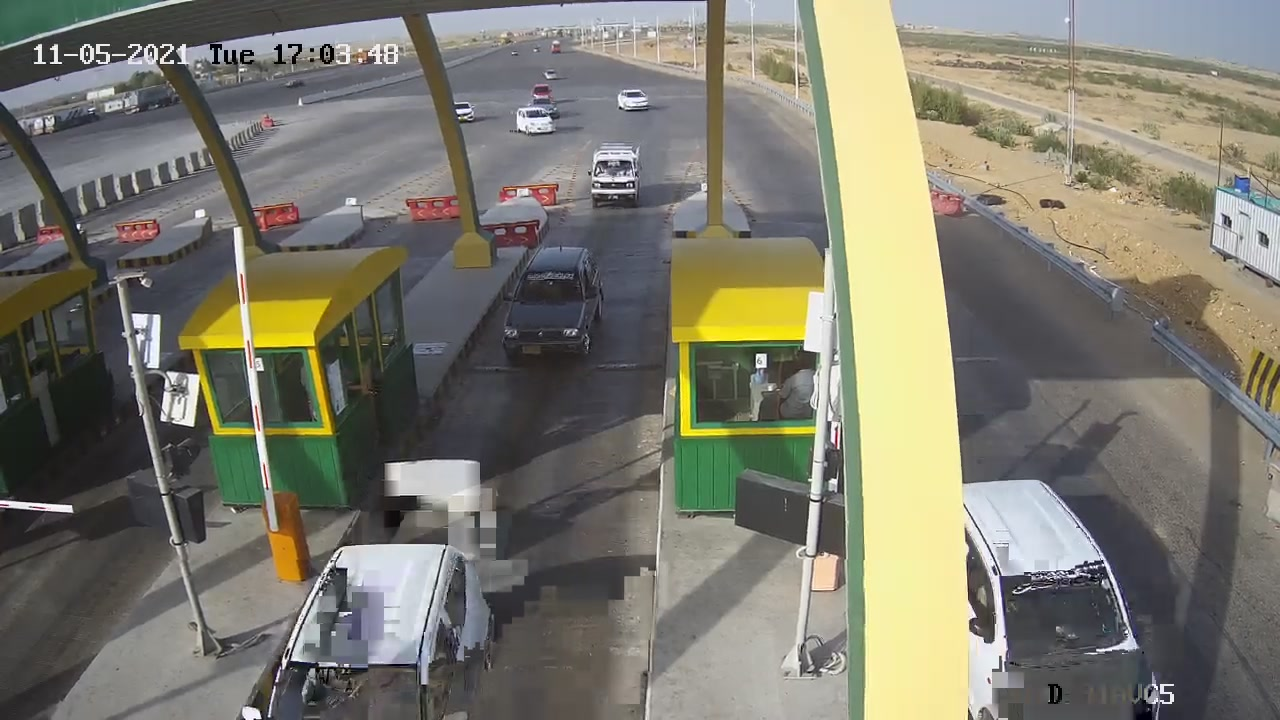F1: (486, 230, 621, 374)
